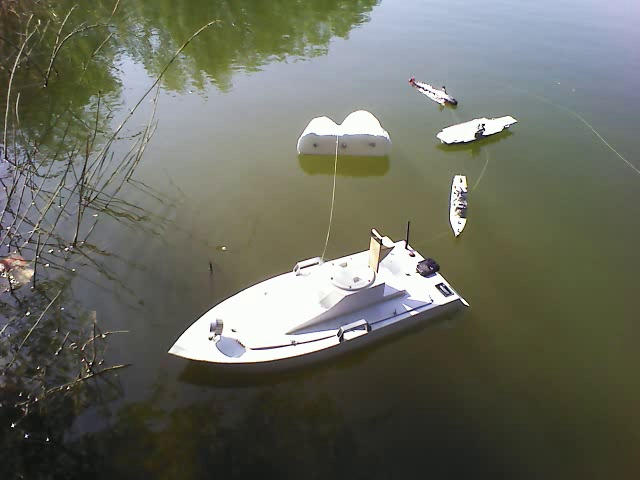aircraft_carrier: (435, 113, 521, 148)
boat: (160, 239, 472, 372)
iceberg: (291, 106, 394, 158)
submarine: (409, 74, 460, 107)
warship: (444, 168, 475, 243)
